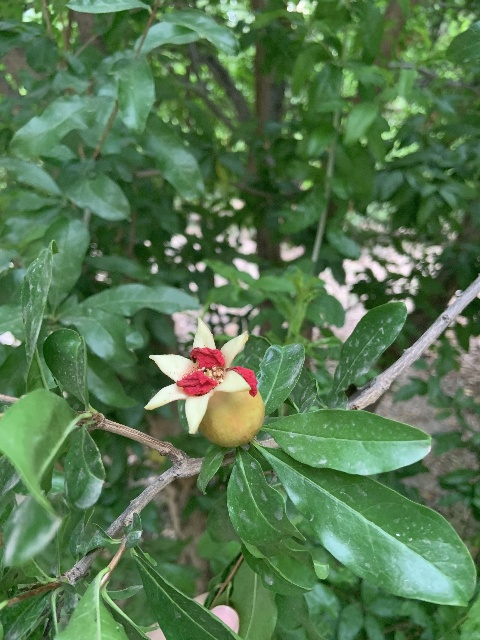early-fruit: (145, 317, 262, 445)
